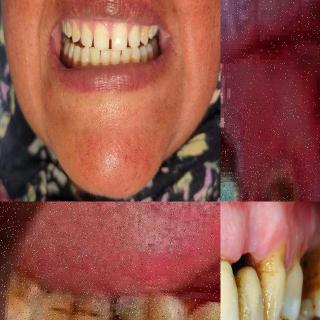Gum Swelling: (220, 229, 277, 262), (279, 232, 303, 270)
cavities: (221, 106, 247, 202), (83, 297, 143, 320)
stains: (262, 253, 284, 320), (232, 268, 260, 320), (303, 250, 320, 309), (120, 48, 132, 64), (73, 52, 82, 68), (62, 42, 70, 58), (147, 49, 155, 63), (84, 48, 90, 66), (69, 47, 75, 61), (138, 51, 144, 65)
